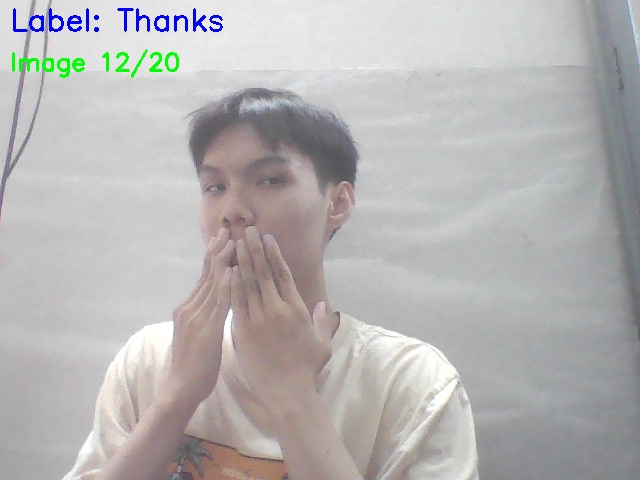Thanks: (167, 220, 335, 420)
